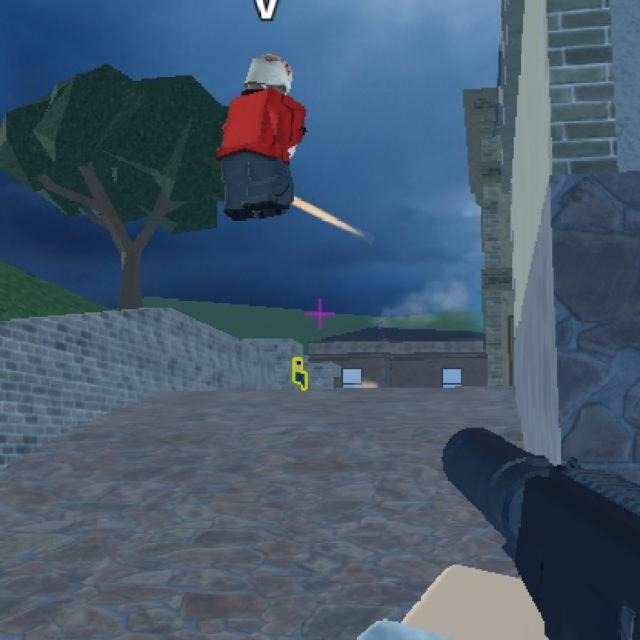player: (291, 355, 308, 390)
